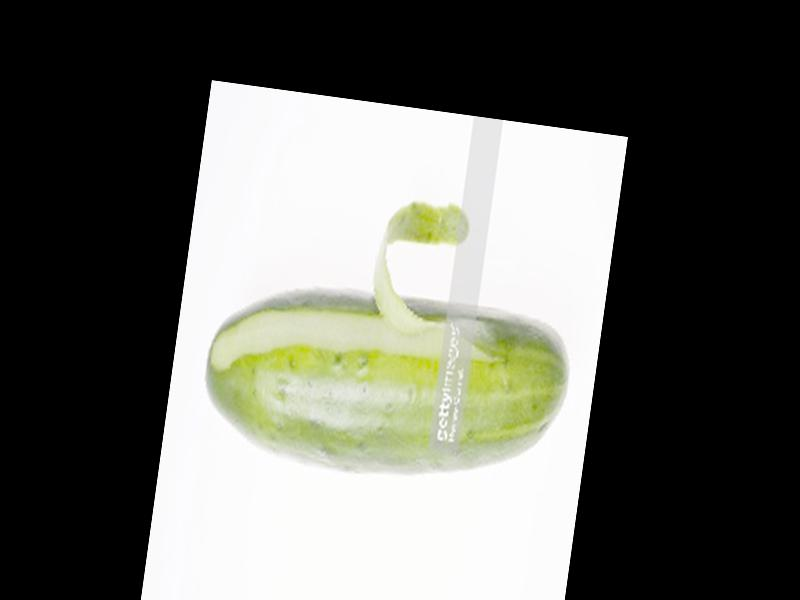Cucumber: (193, 267, 577, 497)
